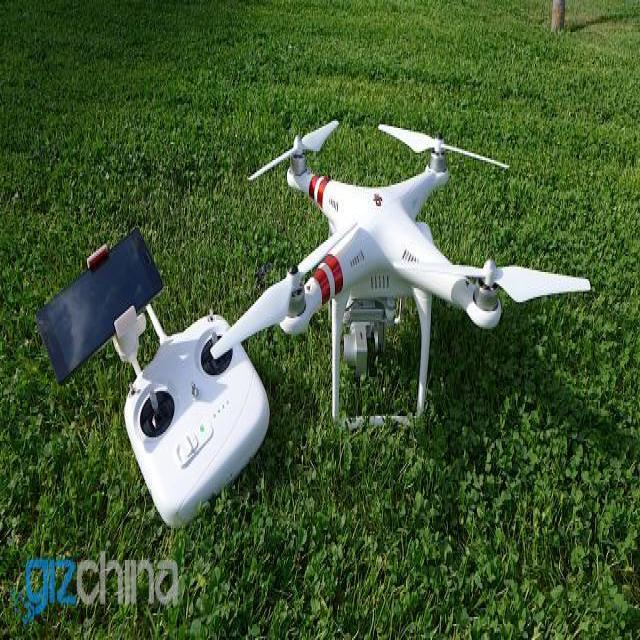drones: (205, 106, 598, 438)
